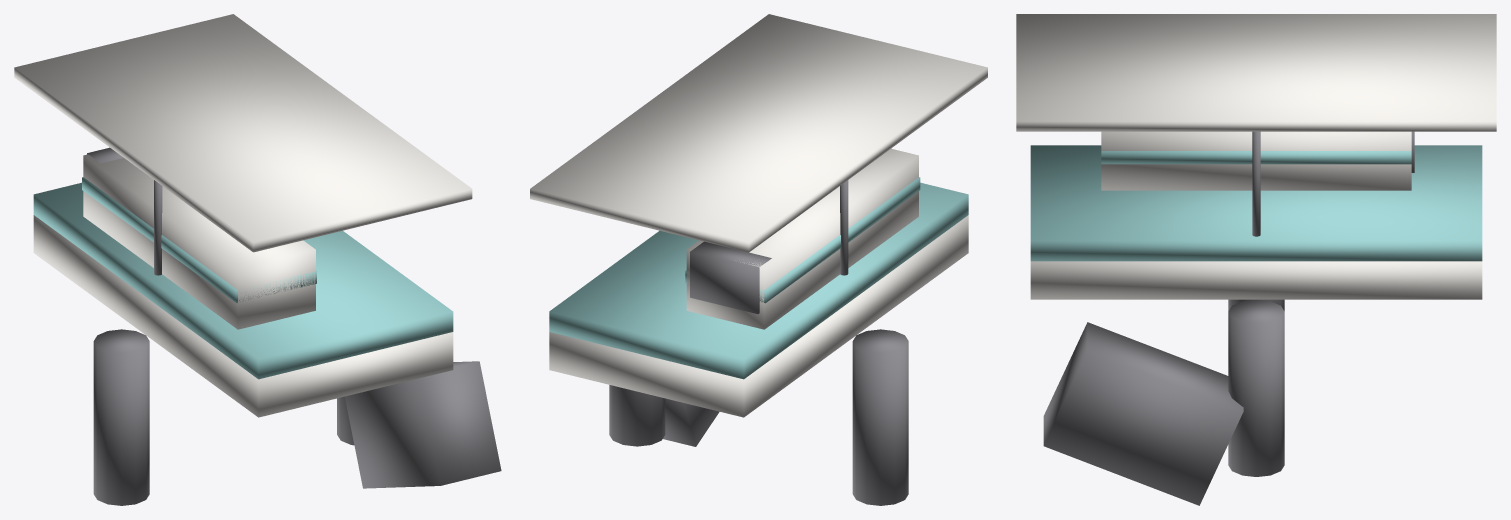
The model's file is bts_station_miniature.glb.
The picture shows the model from 3 angles, left to right: view 1: azimuth 30°, elevation 25°; view 2: azimuth 150°, elevation 25°; view 3: azimuth 270°, elevation 25°; orthographic projection.
Visible parts, largest first — view 1: station_roof, station_base, track_deck, train_body, stairs, pil_l, train_stripe, shel_p_l, pil_r; view 2: station_roof, station_base, track_deck, train_body, pil_l, train_windshield, pil_r, train_stripe, stairs, shel_p_l; view 3: station_roof, station_base, stairs, track_deck, train_body, pil_r, train_stripe, shel_p_r.
Boxes of the visible parts, box(x1,y1,x2,y2) form: station_roof: box(14, 14, 472, 252); station_base: box(33, 182, 453, 379); track_deck: box(33, 215, 453, 417); train_body: box(83, 154, 315, 329); stairs: box(345, 361, 501, 488); pil_l: box(93, 329, 149, 505); train_stripe: box(82, 177, 316, 302); shel_p_l: box(154, 180, 162, 275); pil_r: box(337, 396, 354, 445); station_roof: box(530, 14, 987, 252); station_base: box(549, 182, 968, 379); track_deck: box(549, 215, 968, 417); train_body: box(686, 148, 918, 329); pil_l: box(852, 329, 908, 505); train_windshield: box(690, 241, 771, 313); pil_r: box(609, 385, 665, 446); train_stripe: box(685, 177, 920, 303); stairs: box(663, 398, 719, 446); shel_p_l: box(840, 180, 848, 275); station_roof: box(1016, 14, 1496, 131); station_base: box(1030, 145, 1482, 261); stairs: box(1043, 322, 1243, 505); track_deck: box(1030, 261, 1482, 299); train_body: box(1101, 131, 1411, 190); pil_r: box(1228, 299, 1284, 476); train_stripe: box(1101, 151, 1411, 164); shel_p_r: box(1252, 131, 1260, 236).
Bounding box in the file's own units: 1.23 × 1.42 × 1.7.
